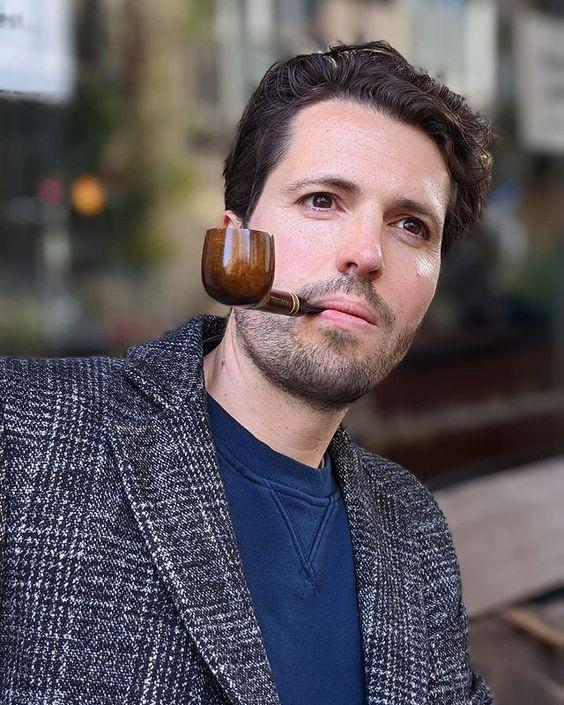trubka: (201, 228, 323, 316)
